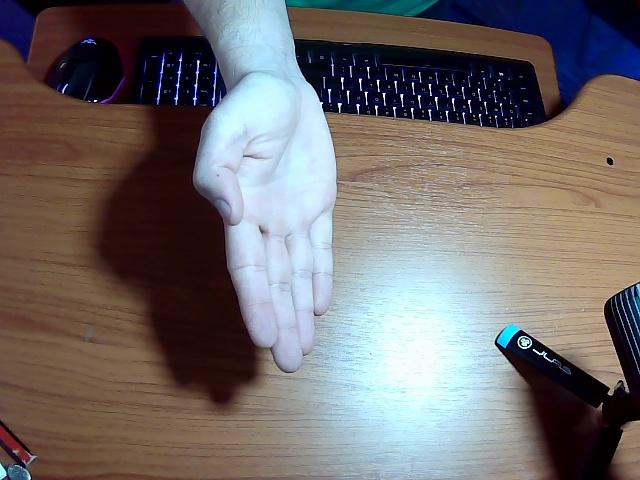paper: (188, 0, 336, 372)
